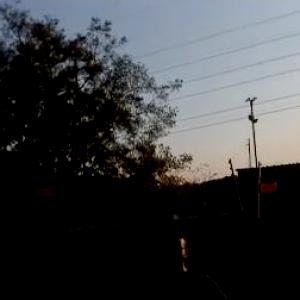follow: (138, 207, 247, 299)
